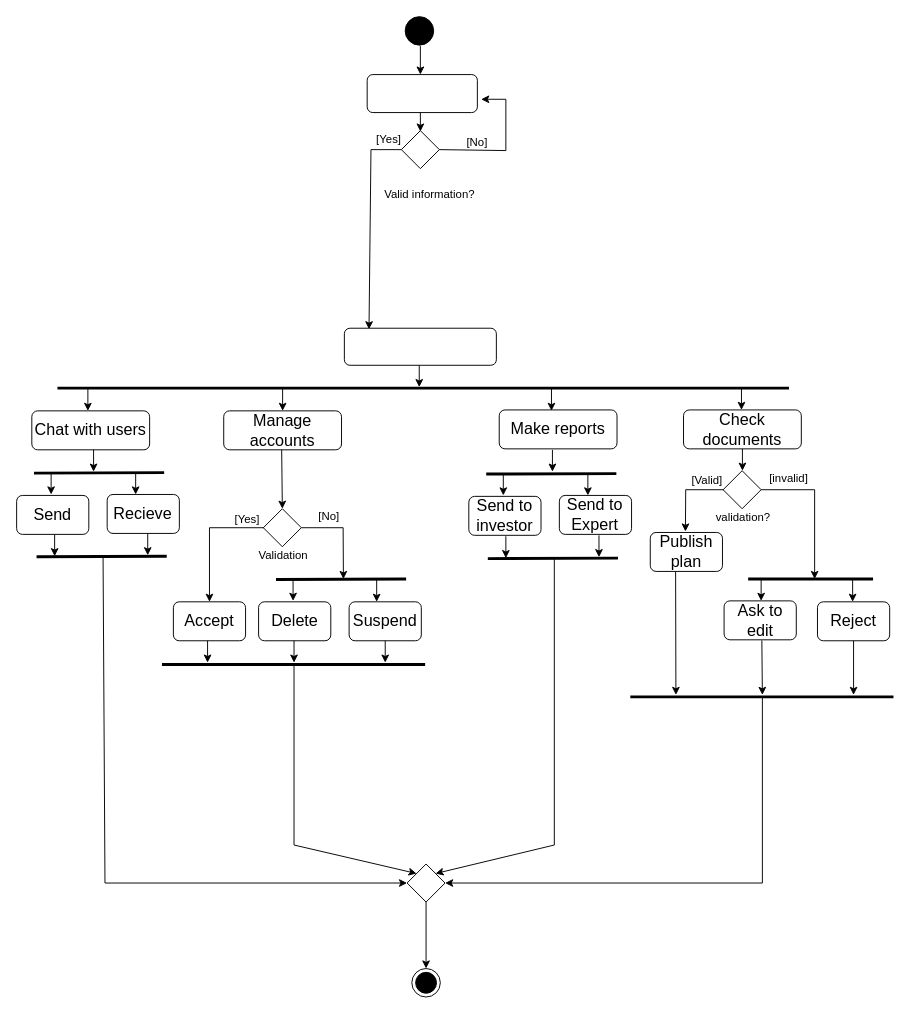
Image size: 912x1014. Some labels were removed from this diagram. Here are the shapes that lost their labels. From the top down, the centre of each, then its label:
At (x=421, y=93): "Log in".
At (x=419, y=346): "Access Features".
